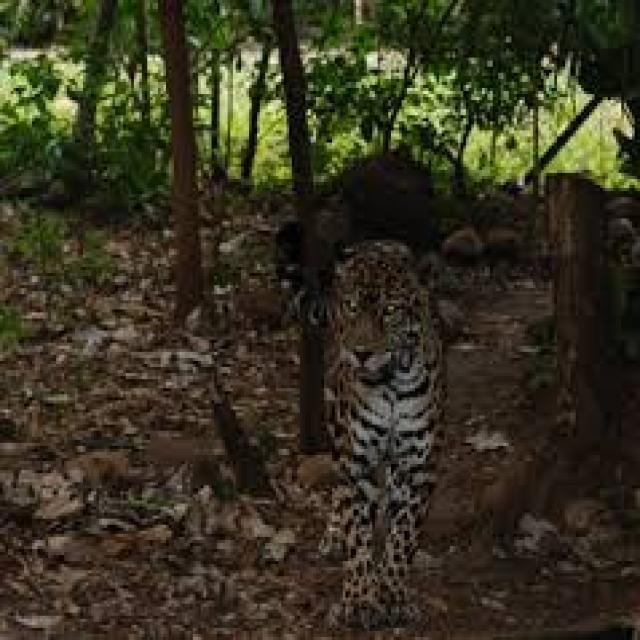Jaguar: (316, 224, 458, 640)
